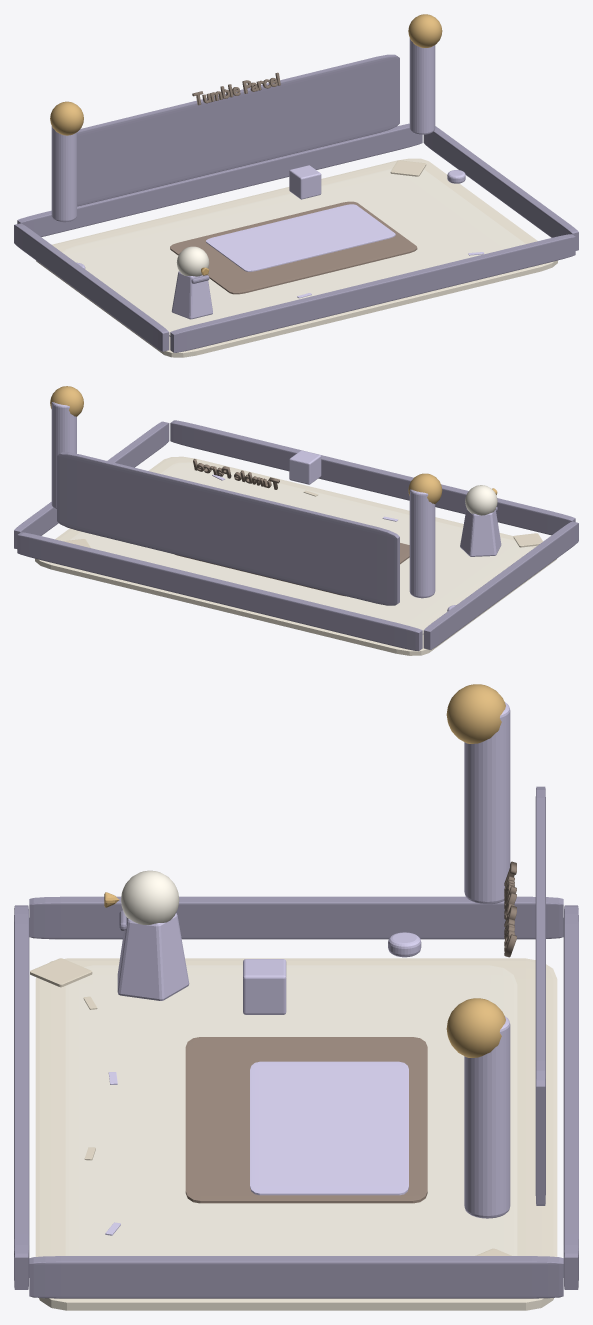
File: 08_rigid_physics.glb
The picture shows the model from 3 angles, top to bottom: view 1: azimuth 30°, elevation 25°; view 2: azimuth 150°, elevation 25°; view 3: azimuth 270°, elevation 25°; orthographic projection. The views are drawn at different scales.
Visible parts, largest first — view 1: BackCard, FloorLayerInset, SouthRail-col, NorthRail-col, PaperFloor-col, StageMatHighlight, StageMat, WestRail-col, EastRail-col, PaperLantern.001, FpeRushPlayer, PaperLantern (+5 smaller); view 2: BackCard, FloorLayerInset, NorthRail-col, SouthRail-col, PaperFloor-col, WestRail-col, PaperLantern, FpeRushPlayer, EastRail-col, PaperLantern.001, TumbleParcel-rigid, TitleLabel (+3 smaller); view 3: FloorLayerInset, PaperFloor-col, EastRail-col, StageMatHighlight, WestRail-col, StageMat, PaperLantern.001, PaperLantern, FpeRushPlayer, NorthRail-col, SouthRail-col, BackCard (+5 smaller).
Part boxes in pixels (box(x1,y1,x2,y2)): BackCard: box(77, 54, 399, 206); FloorLayerInset: box(62, 168, 525, 336); SouthRail-col: box(170, 234, 575, 352); NorthRail-col: box(17, 123, 422, 236); PaperFloor-col: box(36, 158, 557, 357); StageMatHighlight: box(206, 204, 395, 271); StageMat: box(170, 201, 417, 294); WestRail-col: box(14, 223, 169, 351); EastRail-col: box(423, 126, 578, 250); PaperLantern.001: box(409, 38, 435, 134); FpeRushPlayer: box(171, 246, 212, 319); PaperLantern: box(51, 126, 76, 222); BackCard: box(57, 452, 399, 605); FloorLayerInset: box(70, 462, 533, 634); NorthRail-col: box(17, 532, 422, 650); SouthRail-col: box(170, 420, 575, 535); PaperFloor-col: box(35, 456, 556, 655); WestRail-col: box(423, 521, 578, 649); PaperLantern: box(409, 489, 435, 598); FpeRushPlayer: box(460, 485, 501, 556); EastRail-col: box(14, 421, 169, 548); PaperLantern.001: box(51, 402, 76, 509); TumbleParcel-rigid: box(289, 450, 321, 484); TitleLabel: box(193, 459, 279, 489); FloorLayerInset: box(65, 965, 517, 1255); PaperFloor-col: box(35, 958, 557, 1310); EastRail-col: box(29, 1256, 563, 1298); StageMatHighlight: box(250, 1061, 408, 1195); WestRail-col: box(29, 896, 563, 939); StageMat: box(185, 1037, 427, 1203); PaperLantern.001: box(464, 1016, 510, 1218); PaperLantern: box(464, 702, 510, 904); FpeRushPlayer: box(104, 870, 189, 1000); NorthRail-col: box(563, 905, 578, 1289); SouthRail-col: box(14, 905, 29, 1289); BackCard: box(535, 786, 545, 1205).
Size of the model in its own units: 6.8 by 2.56 by 4.44.
